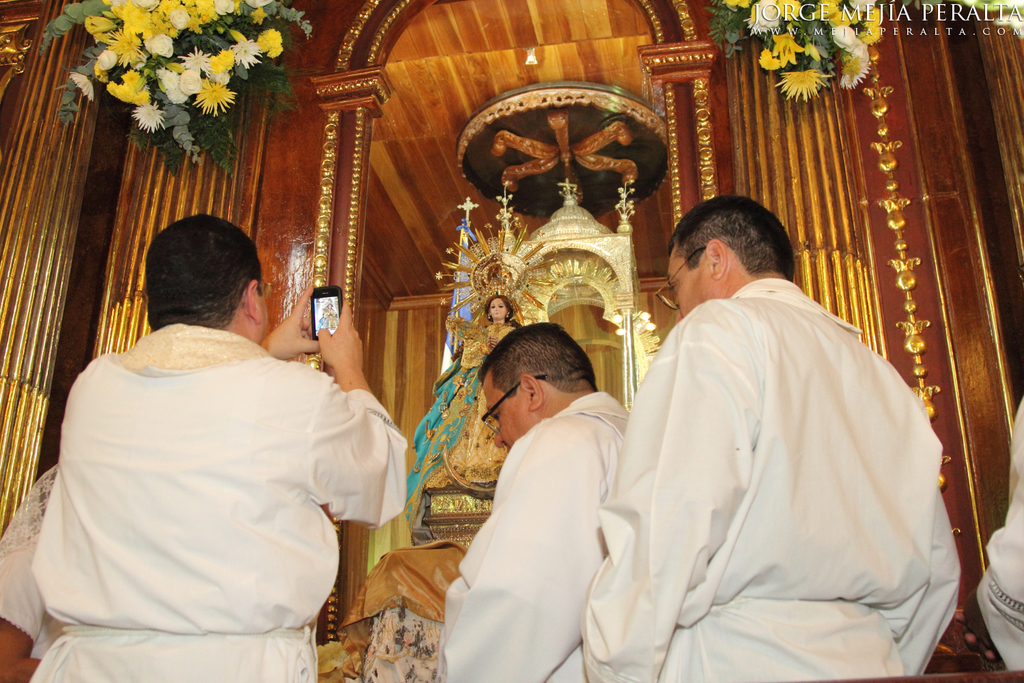Person: (405, 292, 524, 539), (956, 393, 1024, 674)
